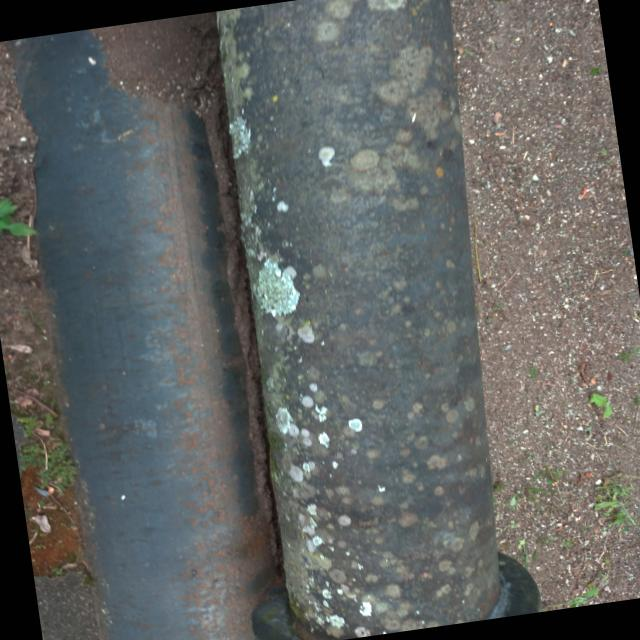gas: (165, 0, 537, 640)
